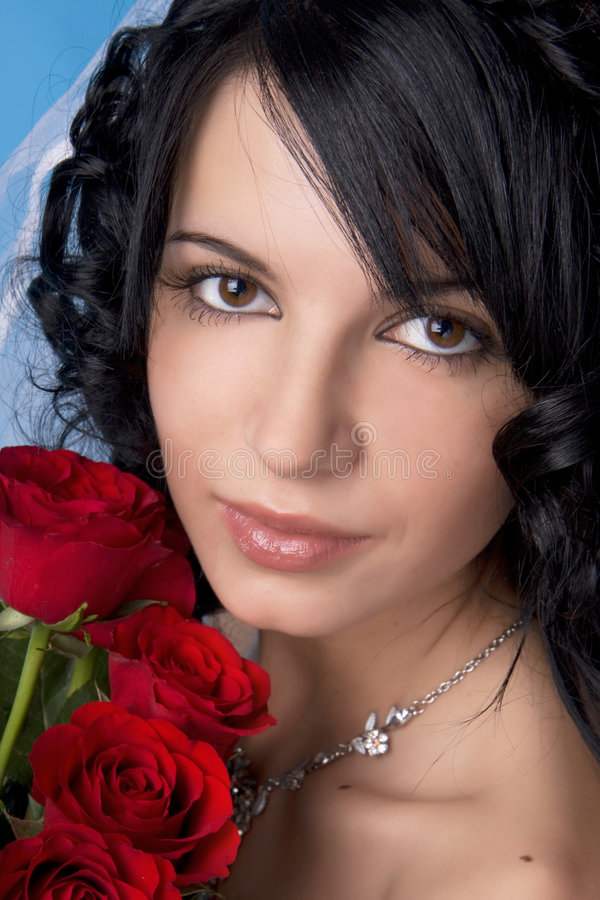RedRose: (22, 694, 260, 875), (0, 414, 180, 639), (89, 589, 288, 752), (0, 817, 202, 895)
